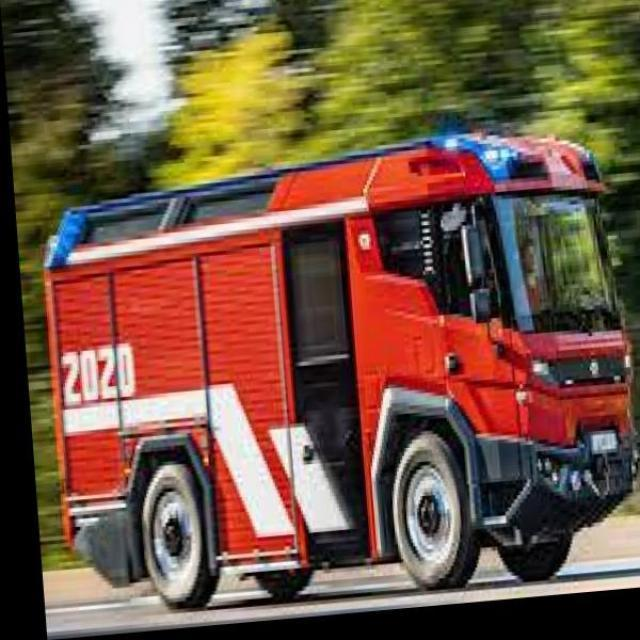emergency: (41, 122, 640, 610)
